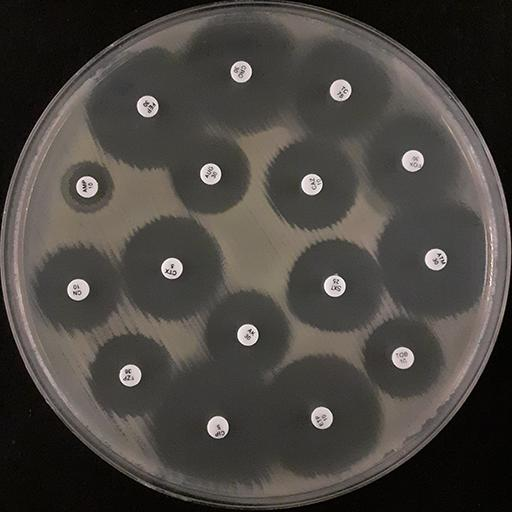disc: (424, 247, 448, 271), (391, 346, 415, 370), (119, 363, 142, 387), (310, 406, 333, 430), (206, 415, 229, 439), (136, 95, 159, 118), (329, 79, 352, 102), (199, 162, 222, 185), (300, 173, 323, 196), (401, 149, 424, 172), (75, 175, 98, 198), (323, 274, 346, 297), (66, 278, 89, 301), (236, 323, 259, 346), (230, 60, 252, 83), (160, 257, 183, 279)
